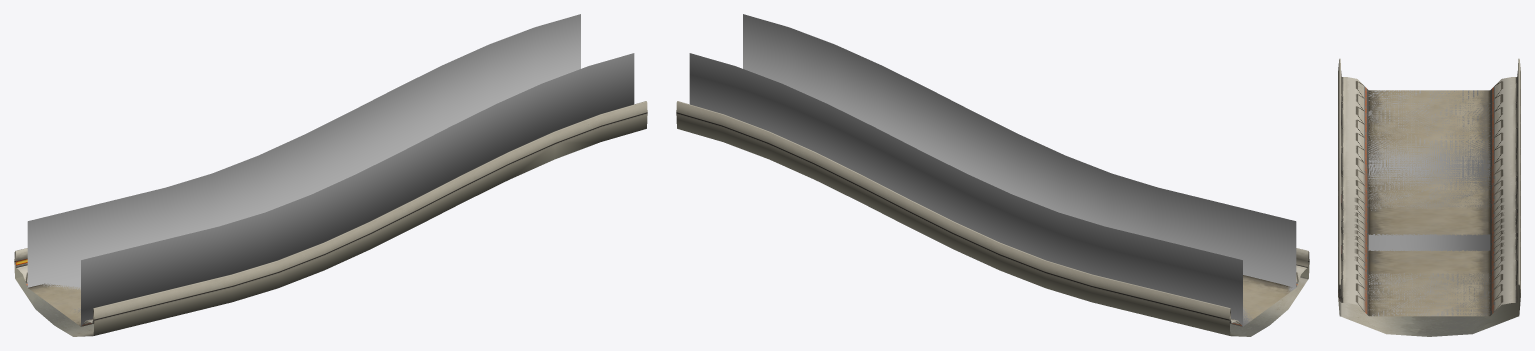
Rendered from road_ramp_medium.fbx.
3 renders of one model, left to right at view 1: azimuth 30°, elevation 25°; view 2: azimuth 150°, elevation 25°; view 3: azimuth 270°, elevation 25°, orthographic. The views are drawn at different scales.
Visible parts, largest first — view 1: colider_ramp_medium, road_ramp_medium; view 2: colider_ramp_medium, road_ramp_medium; view 3: road_ramp_medium, colider_ramp_medium.
Part boxes in pixels (bbox=[...]): colider_ramp_medium: bbox=[27, 14, 634, 326]; road_ramp_medium: bbox=[14, 101, 647, 336]; colider_ramp_medium: bbox=[689, 14, 1296, 326]; road_ramp_medium: bbox=[676, 101, 1309, 336]; road_ramp_medium: bbox=[1338, 58, 1520, 336]; colider_ramp_medium: bbox=[1368, 90, 1490, 316].
Size of the model in its own units: 96 by 26.05 by 24.02.
4 materials, 3 textured.
